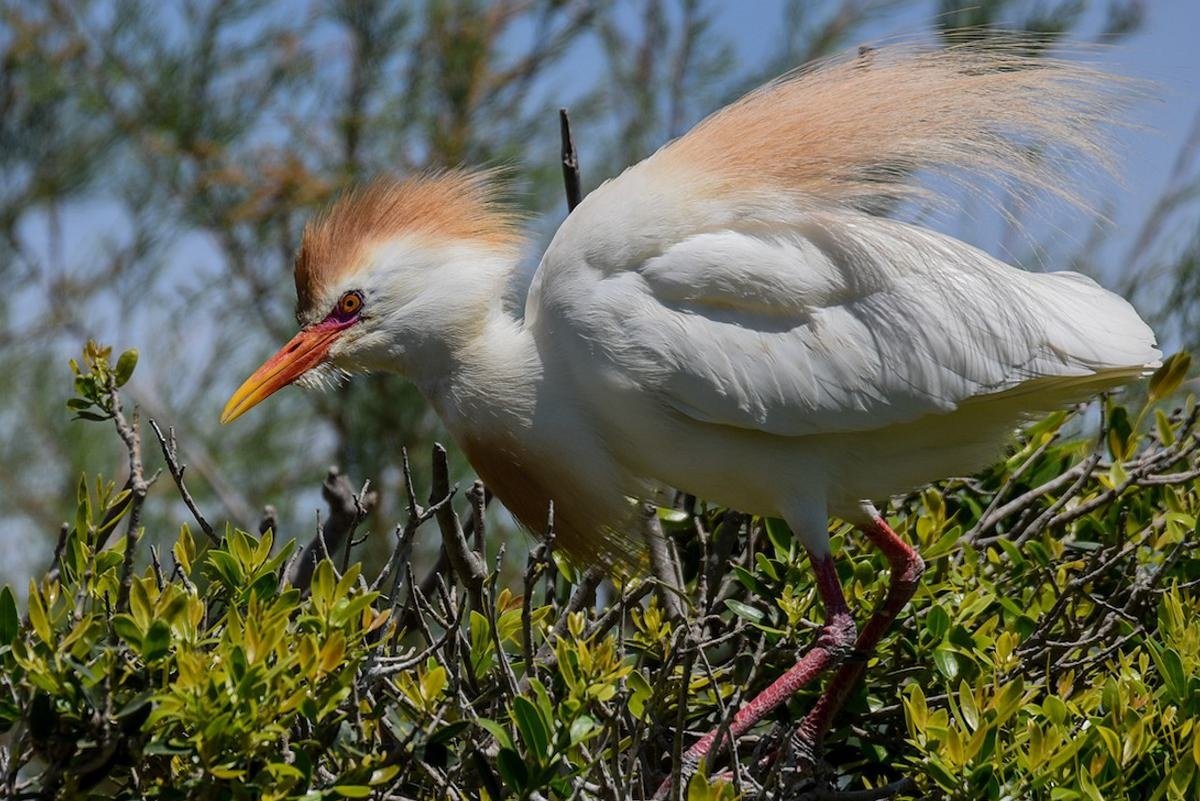egret: (213, 24, 1174, 741)
